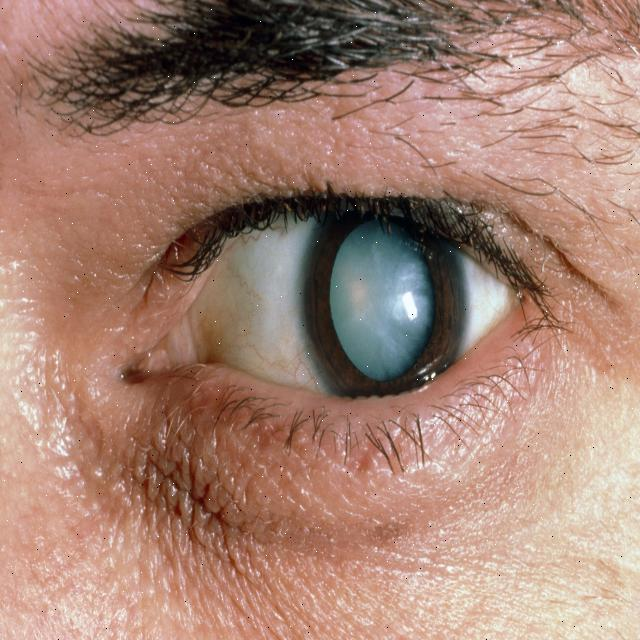Cataract: (302, 172, 468, 416)
